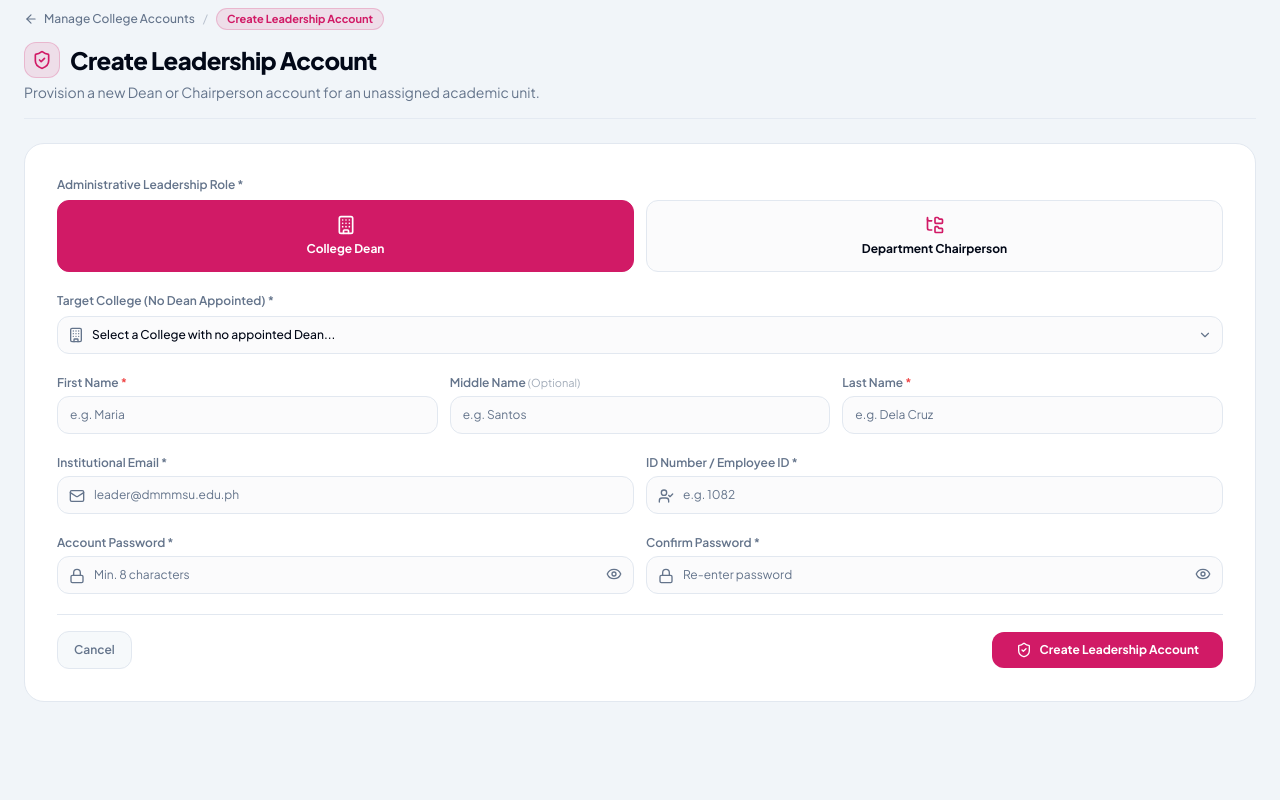
Test: CreateLeadershipAccountPage › opens confirmation modal with leadership appointment summary without email verification
# Select unassigned college
Select "College of Engineering (COE)" in the dropdown labelled "Target College (No Dean Appointed) *": (165, 300) x1=57 y1=293 x2=274 y2=308
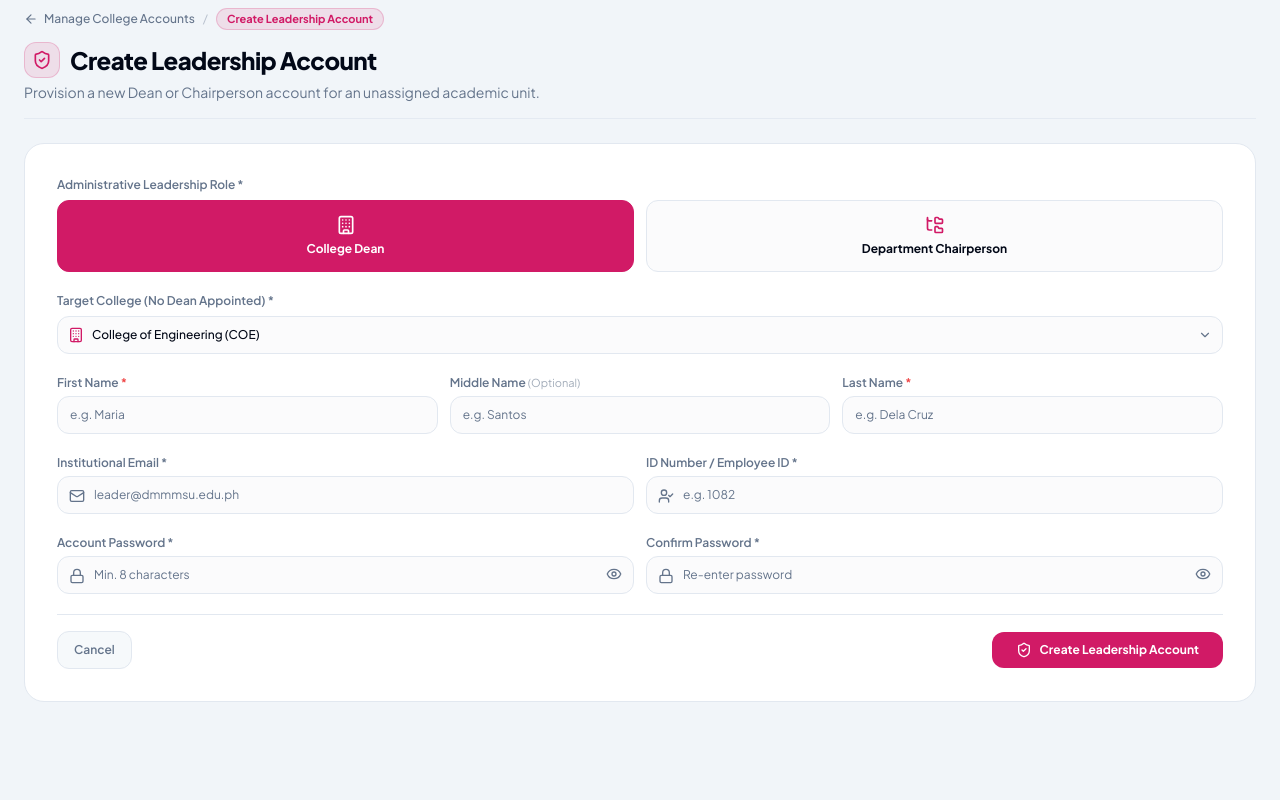
In the field labelled "First Name *": (247, 415) x1=57 y1=396 x2=438 y2=434, type "Marie"
In the field labelled "Last Name *": (1033, 415) x1=842 y1=396 x2=1223 y2=434, type "Curie"
In the field labelled "Institutional Email *": (346, 495) x1=57 y1=476 x2=634 y2=514, type "mcurie@dmmmsu.edu.ph"
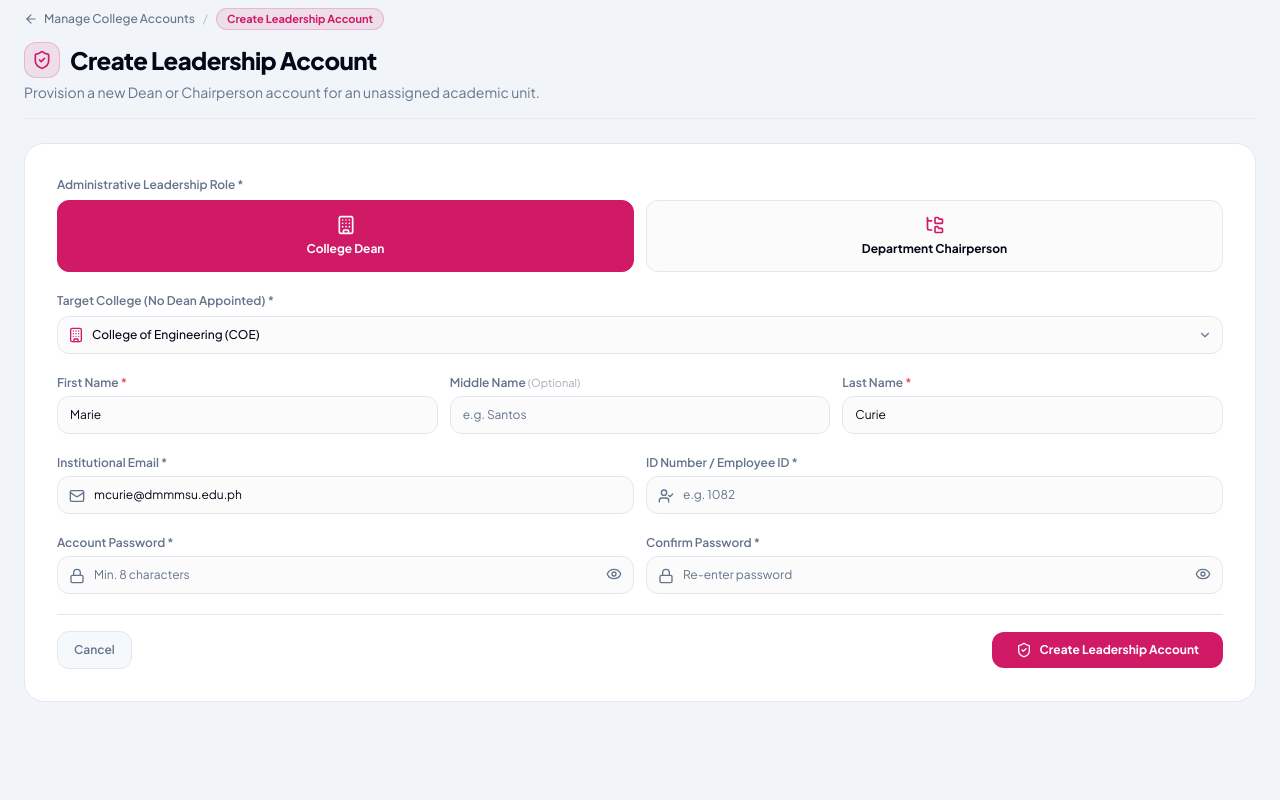
In the field labelled "ID Number / Employee ID *": (934, 495) x1=646 y1=476 x2=1223 y2=514, type "1099"
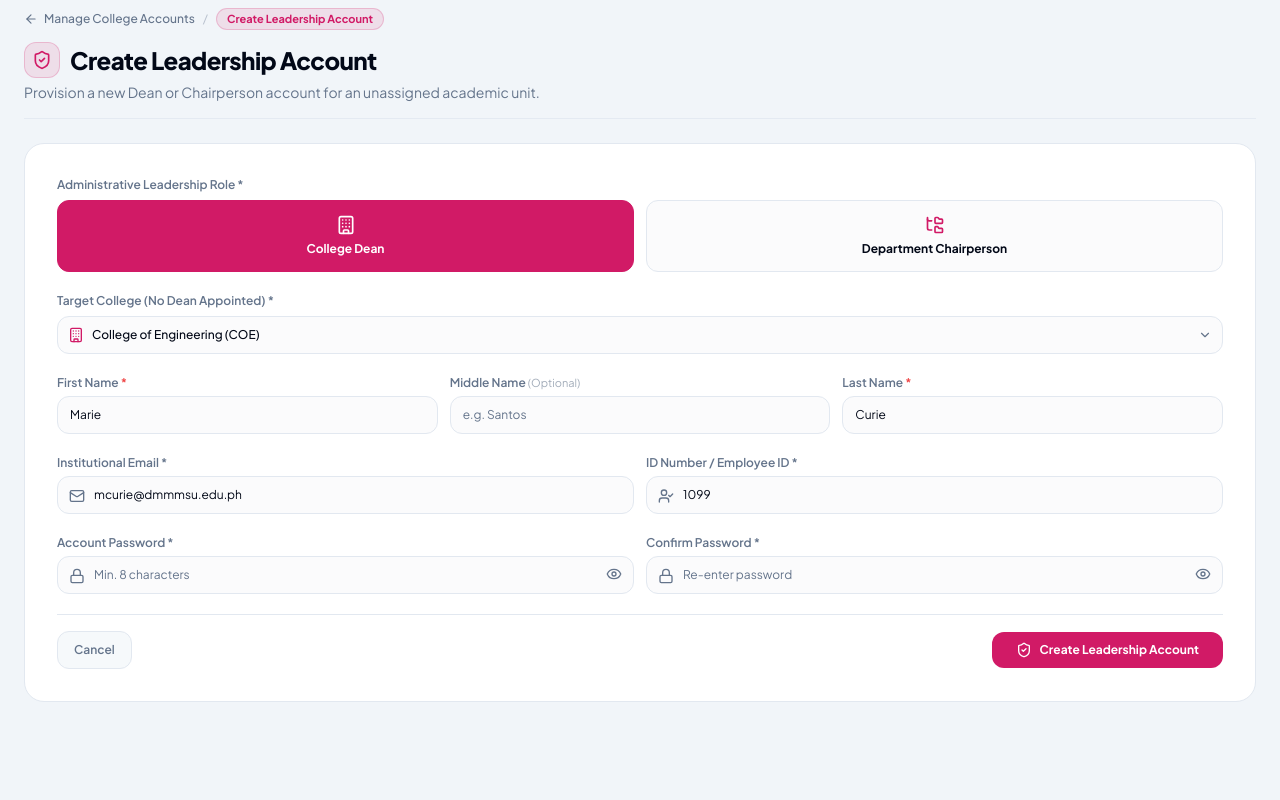
In the password field labelled "Account Password *": (346, 575) x1=57 y1=556 x2=634 y2=594, type "SecurePass123"
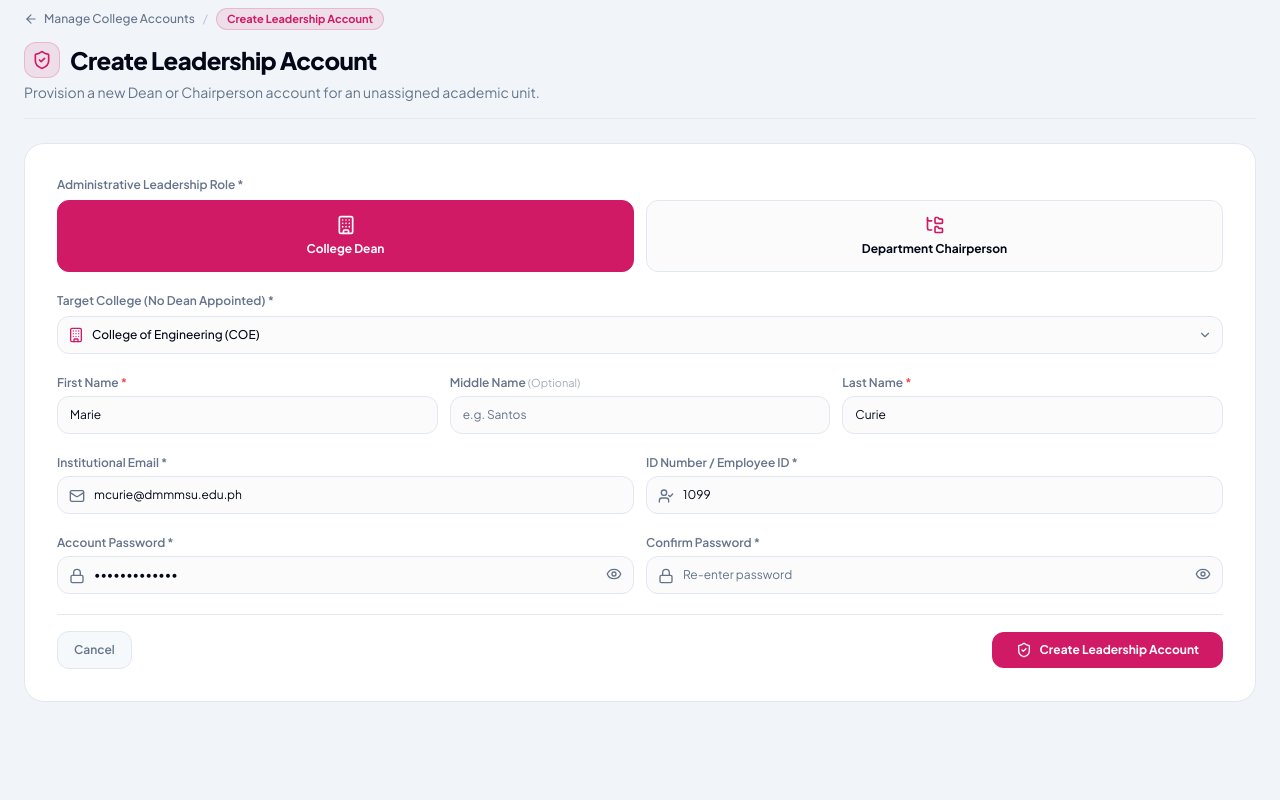
In the password field labelled "Confirm Password *": (934, 575) x1=646 y1=556 x2=1223 y2=594, type "SecurePass123"
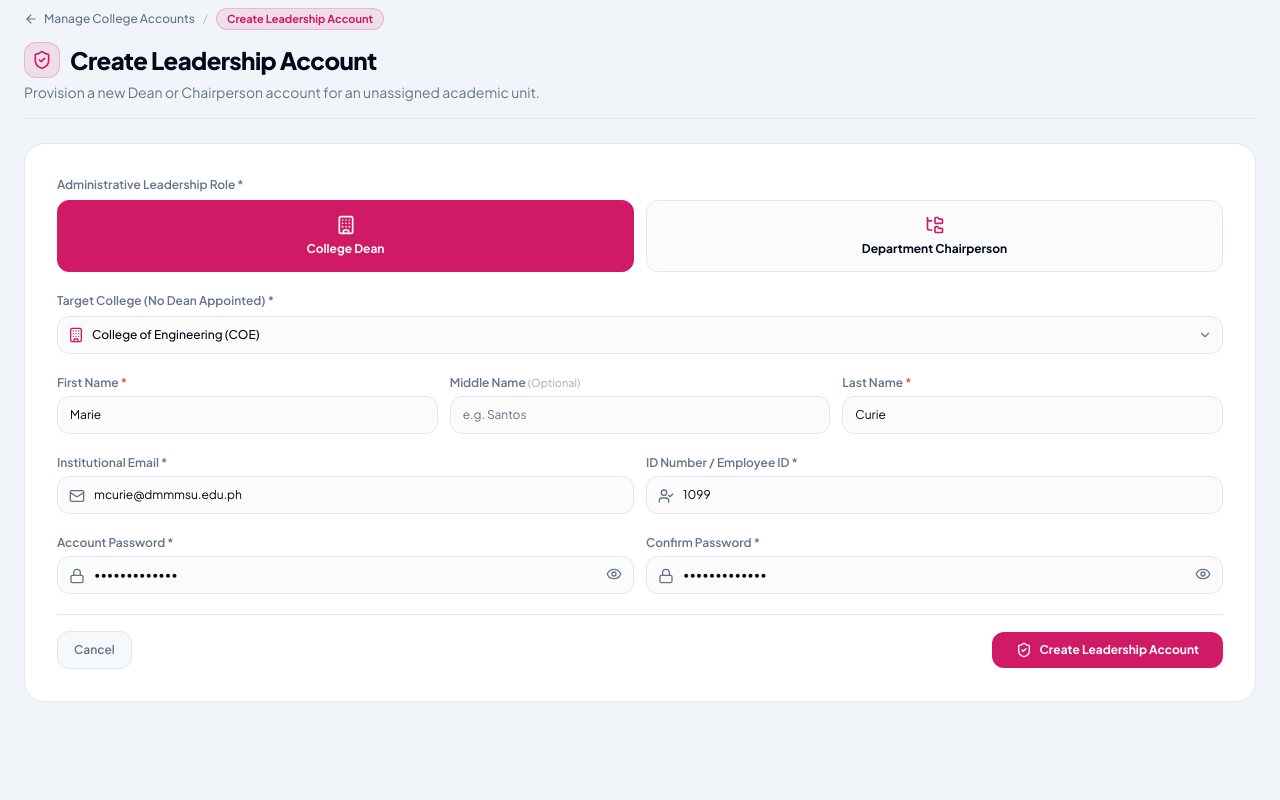
Click the button "Create Leadership Account": (1107, 650) x1=992 y1=632 x2=1223 y2=668
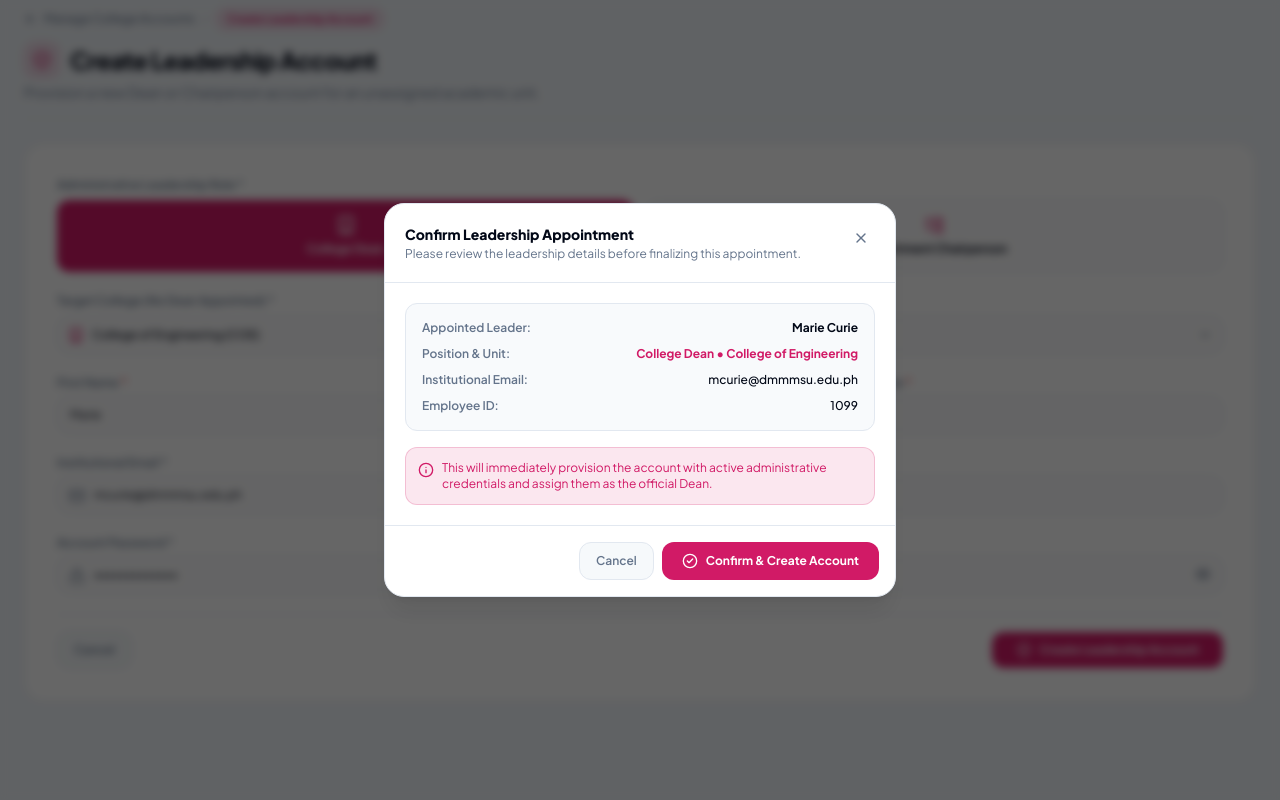
Result: the heading "Confirm Leadership Appointment" is shown at x1=405 y1=225 x2=634 y2=243
Result: the text "Marie Curie" is shown at x1=792 y1=320 x2=858 y2=336
Result: the text "mcurie@dmmmsu.edu.ph" is shown at x1=708 y1=372 x2=858 y2=388
